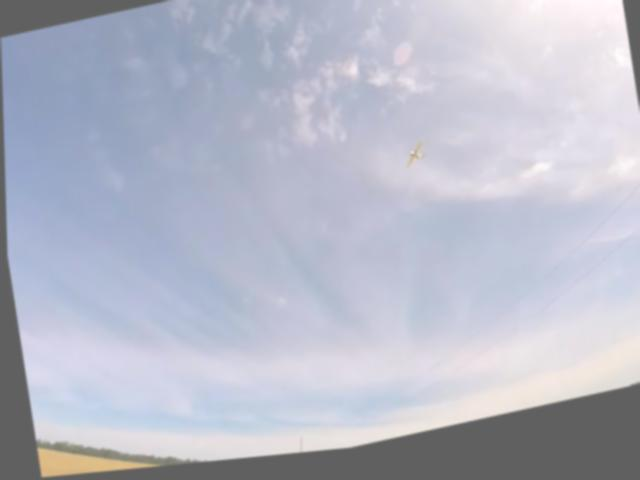plane: (402, 149, 426, 177)
